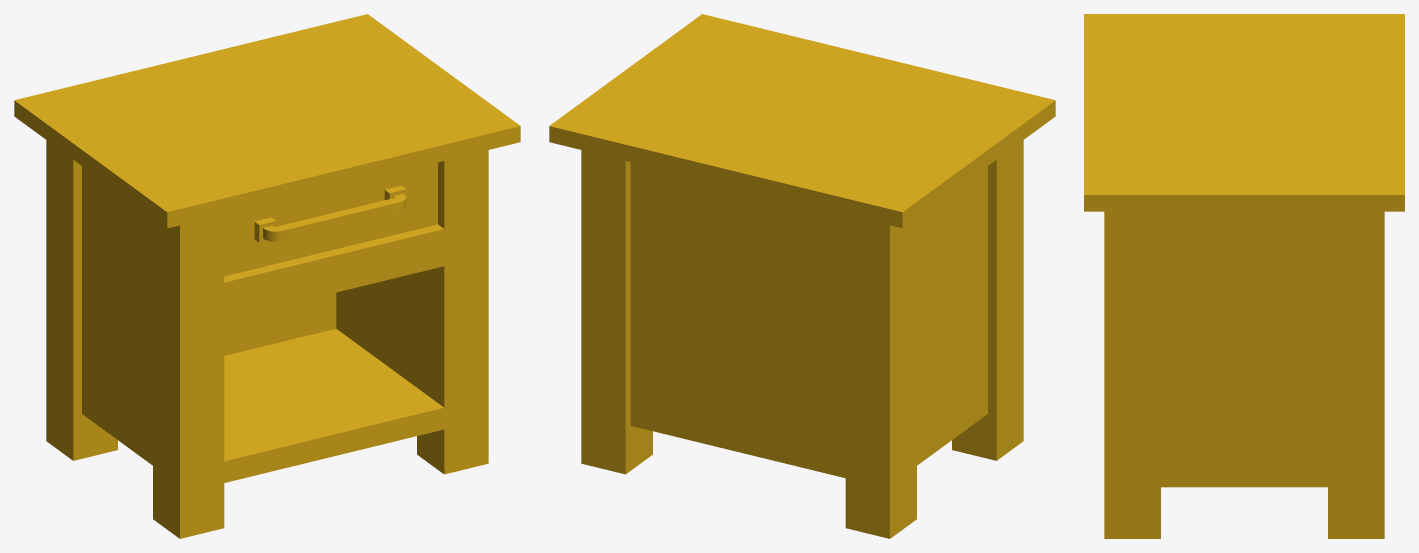
The model's file is CTS_E_Nightstand.fbx.
The picture shows the model from 3 angles, left to right: view 1: azimuth 30°, elevation 25°; view 2: azimuth 150°, elevation 25°; view 3: azimuth 270°, elevation 25°; orthographic projection. The views are drawn at different scales.
Parts seen in each view (by area): view 1: CTS_E_Nightstand; view 2: CTS_E_Nightstand; view 3: CTS_E_Nightstand.
Part boxes in pixels (x1,y1,x2,y2): CTS_E_Nightstand: (14,14,520,538); CTS_E_Nightstand: (549,14,1055,538); CTS_E_Nightstand: (1084,14,1404,538).
Bounding box in the file's own units: 94.1 × 86.29 × 70.58.
